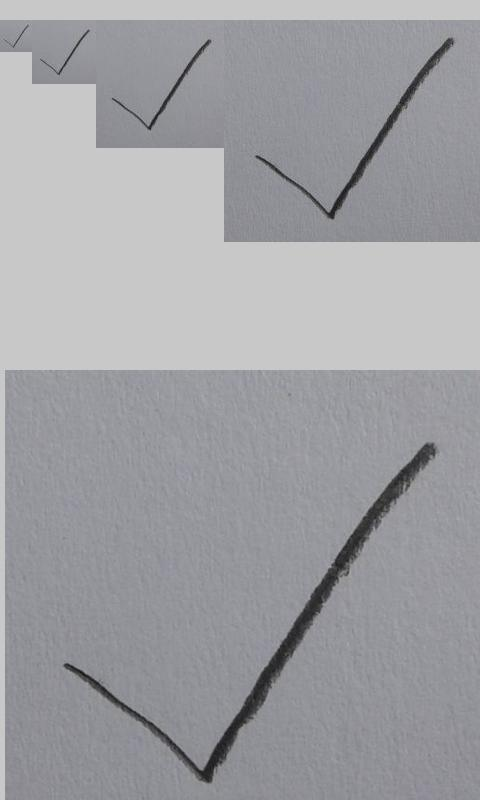check_box: (64, 444, 435, 784), (255, 38, 455, 221), (111, 40, 212, 130), (40, 29, 89, 75), (3, 24, 29, 48)
